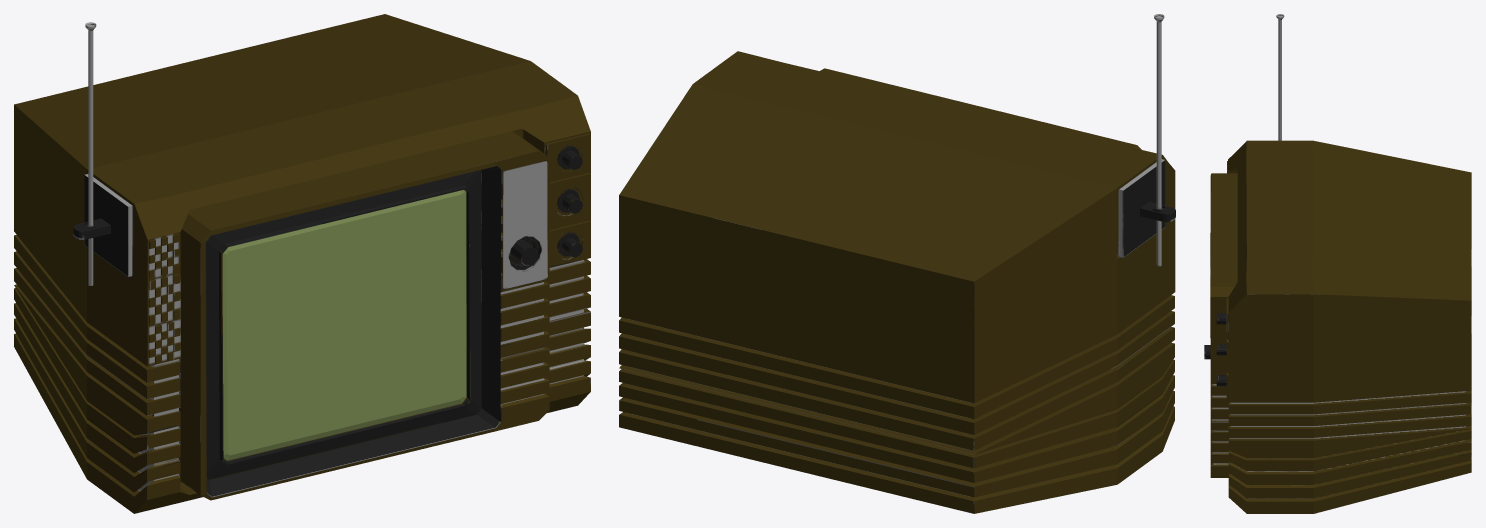
3 renders of one model, left to right at view 1: azimuth 30°, elevation 25°; view 2: azimuth 150°, elevation 25°; view 3: azimuth 270°, elevation 25°, orthographic. The views are drawn at different scales.
Visible parts, largest first — view 1: TV; view 2: TV; view 3: TV.
Boxes of the visible parts, box(x1,y1,x2,y2) form: TV: box(14, 14, 590, 513); TV: box(619, 14, 1175, 513); TV: box(1204, 14, 1471, 513).
Bounding box in the file's own units: 323 × 307 × 220.
